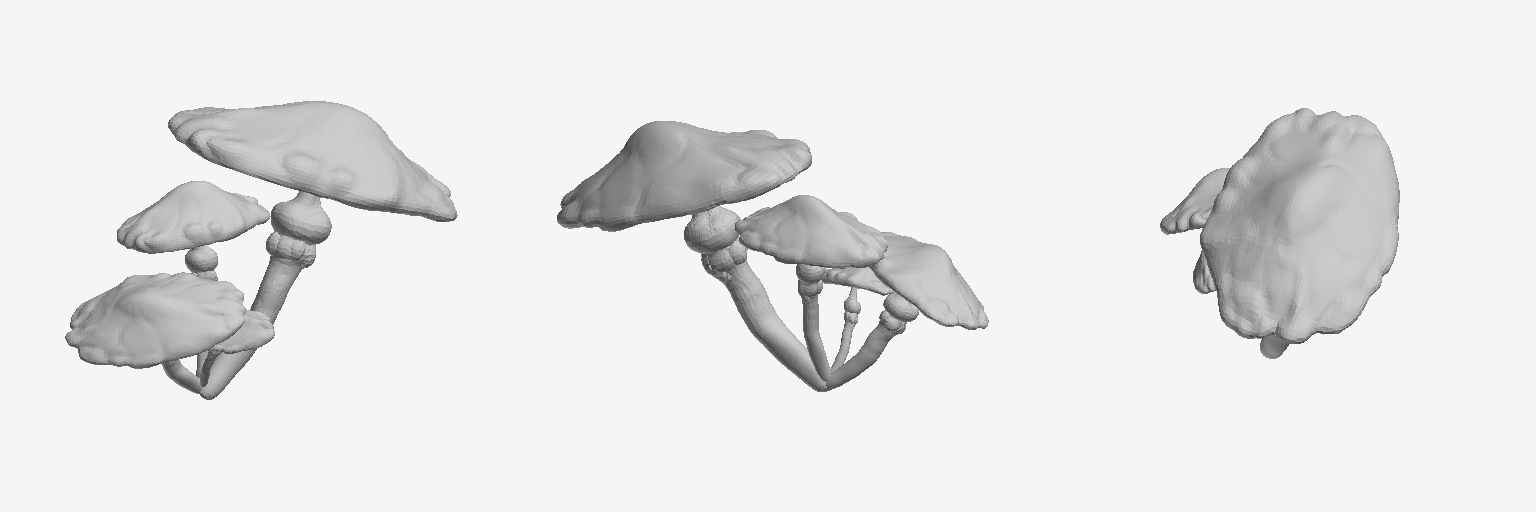
Rendered from PolySphere6_high.obj.
The picture shows the model from 3 angles: view 1: azimuth 30°, elevation 25°; view 2: azimuth 150°, elevation 25°; view 3: azimuth 270°, elevation 25°; orthographic projection.
Parts seen in each view (by area): view 1: Group6920; view 2: Group6920; view 3: Group6920.
Part boxes in pixels (x1,y1,x2,y2): Group6920: (65, 101, 457, 399); Group6920: (557, 121, 988, 391); Group6920: (1160, 108, 1399, 358).
Size of the model in its own units: 0.592 by 0.3598 by 0.3089.